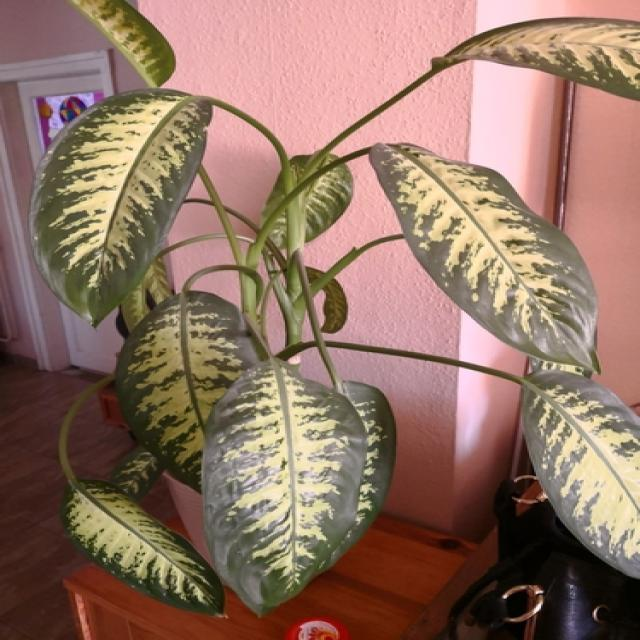dieffenbachia-oVHx: (28, 0, 640, 619)
